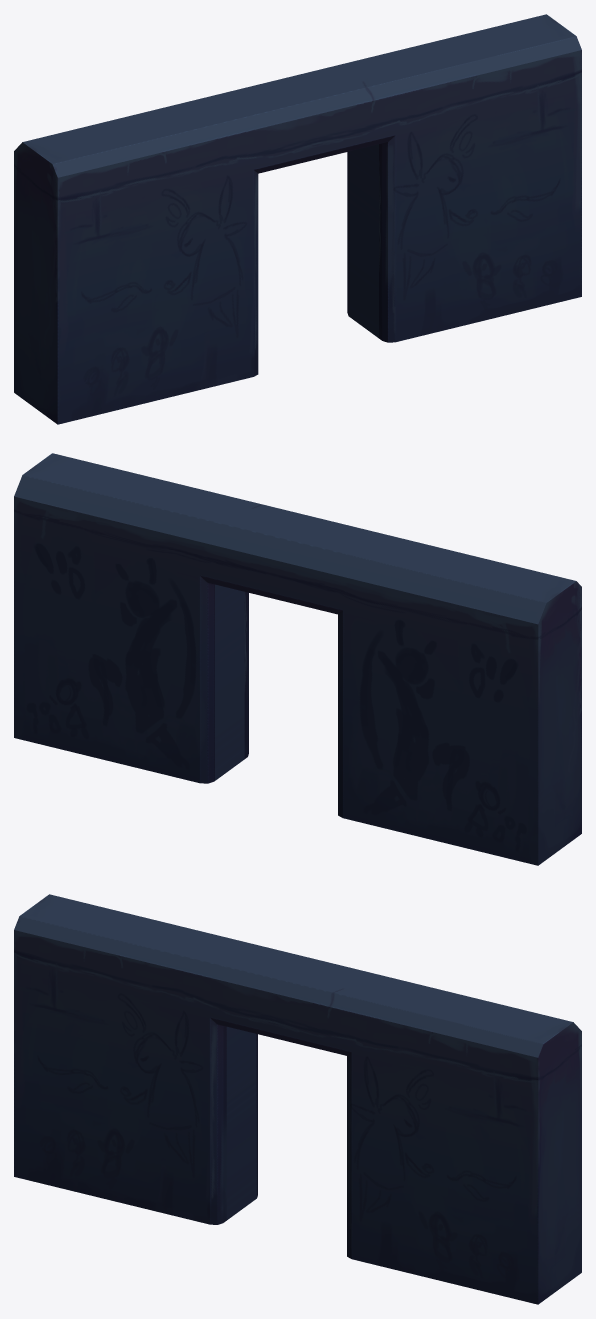
Rendered from Door_Wall.glb.
3 views of the same model, one above another, from view 1: azimuth 30°, elevation 25°; view 2: azimuth 150°, elevation 25°; view 3: azimuth 330°, elevation 25° (orthographic).
Parts seen in each view (by area): view 1: Cube; view 2: Cube; view 3: Cube.
Boxes of the visible parts, x1=… form: Cube: x1=14, y1=14, x2=581, y2=424; Cube: x1=14, y1=453, x2=581, y2=865; Cube: x1=14, y1=894, x2=581, y2=1304.
Size of the model in its own units: 26.91 by 12.59 by 3.89.
Materials: 1 (1 with a texture image).
